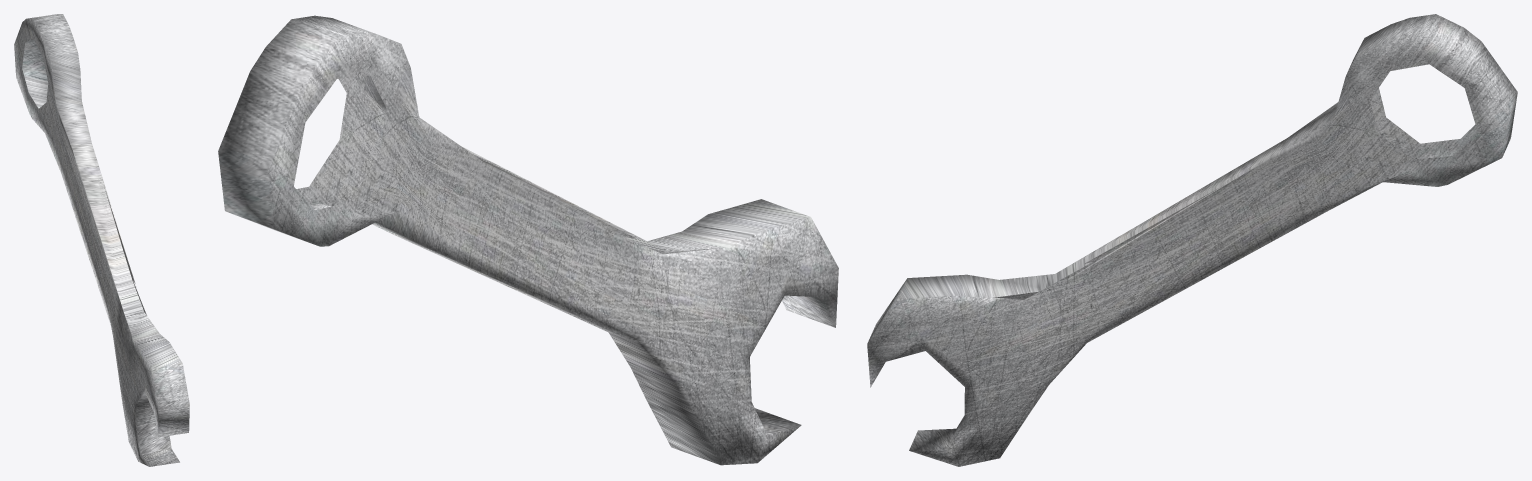
The model's file is molibdeno.obj.
The picture shows the model from 3 angles, left to right: view 1: azimuth 30°, elevation 25°; view 2: azimuth 150°, elevation 25°; view 3: azimuth 270°, elevation 25°; orthographic projection. The views are drawn at different scales.
Visible parts, largest first — view 1: Cube; view 2: Cube; view 3: Cube.
Boxes of the visible parts, x1,y1,x2,y2 form: Cube: (14,14,189,466); Cube: (218,15,838,465); Cube: (867,14,1517,466).
Size of the model in its own units: 1.92 by 5.9 by 7.39.
Materials: 1 (1 with a texture image).
